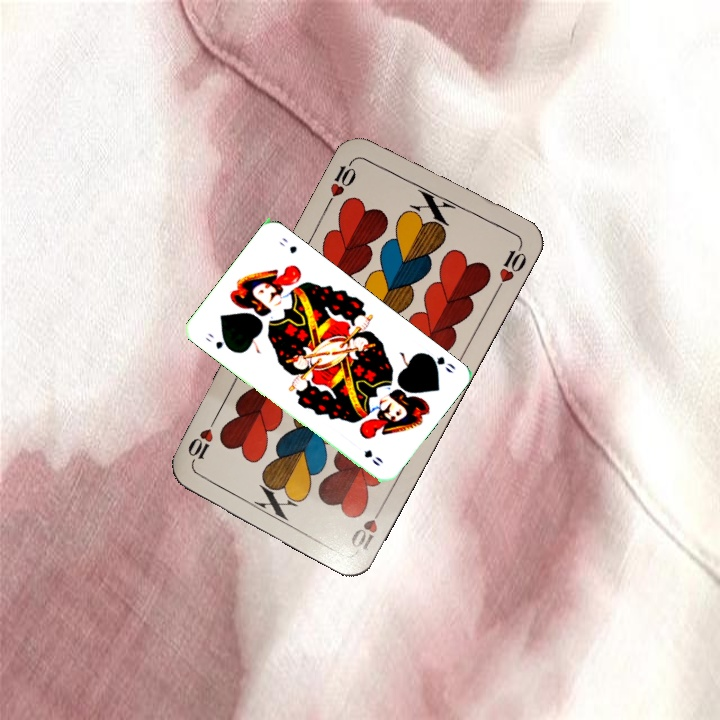GO: (421, 349, 459, 376), (202, 329, 235, 354)
H10: (345, 500, 388, 554), (322, 154, 359, 208)
